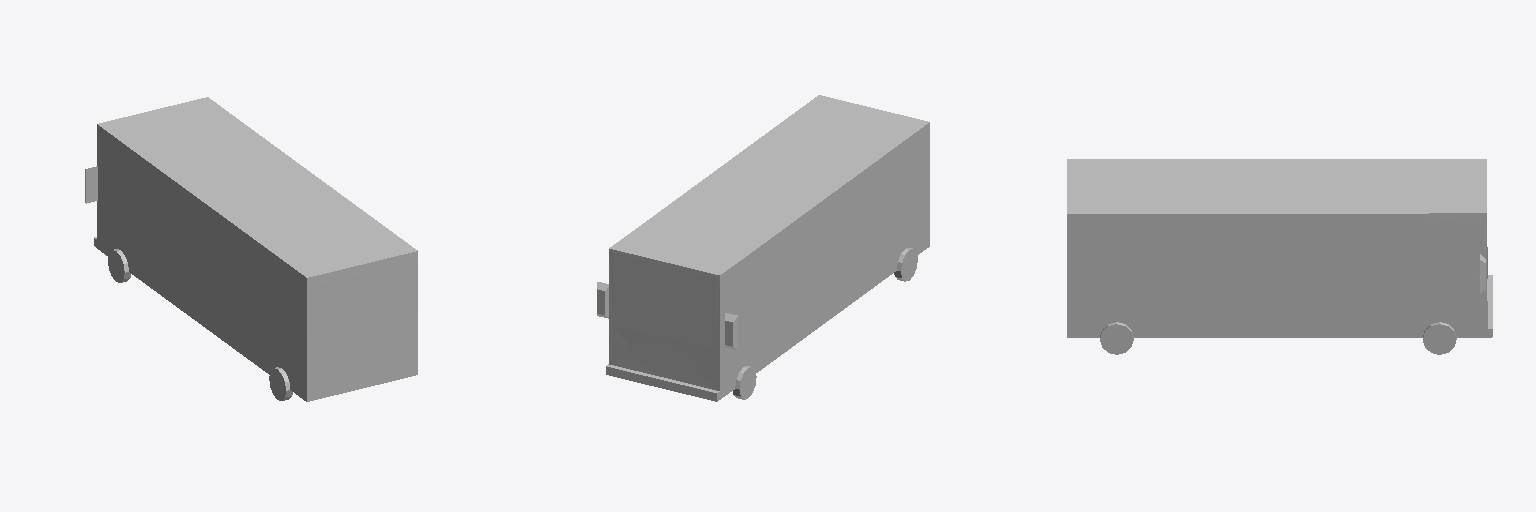
File: bus.obj
3 views of the same model, side by side, from view 1: azimuth 30°, elevation 25°; view 2: azimuth 150°, elevation 25°; view 3: azimuth 270°, elevation 25° (orthographic).
Parts seen in each view (by area): view 1: bus_mesh; view 2: bus_mesh; view 3: bus_mesh.
Boxes of the visible parts, x1=… form: bus_mesh: x1=85, y1=97, x2=417, y2=401; bus_mesh: x1=597, y1=95, x2=929, y2=401; bus_mesh: x1=1067, y1=159, x2=1492, y2=354.
Bounding box in the file's own units: 3.44 × 3.27 × 9.04.